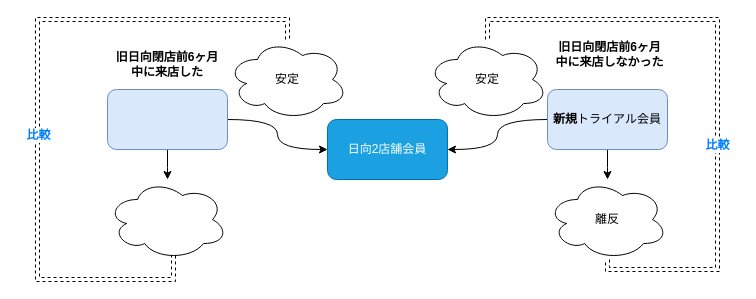
Some shapes in this 756 by 299 pixel diagram are drawn without their labels. Each missing label, with the centre of its shape:
既存 トライアル会員: pixel 167 119
流失＆離反: pixel 167 219
